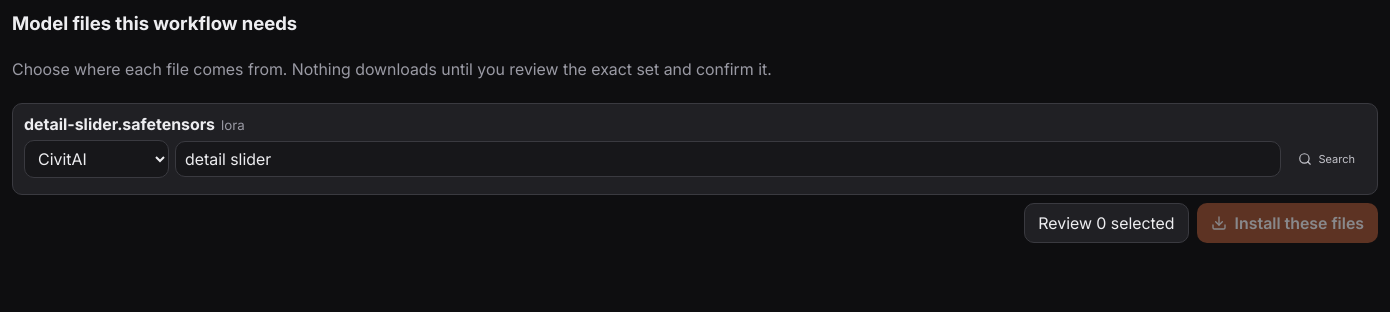
Test case: workflow asset installer › says why a bundle holding several files produced nothing
The width and height of the screenshot is (1390, 312).
Click the button "Search" at (1327, 159), box [1288,144,1366,174]
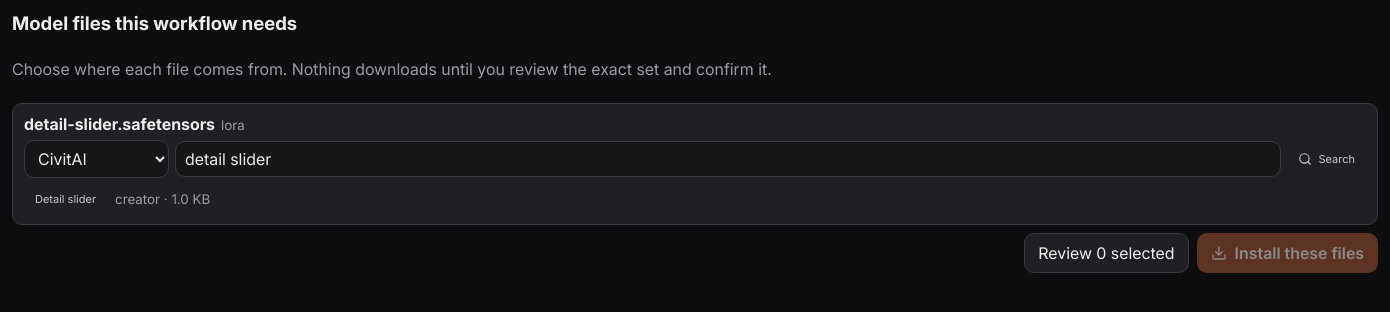
Click the button "Detail slider" at (66, 199), box [24,184,107,214]
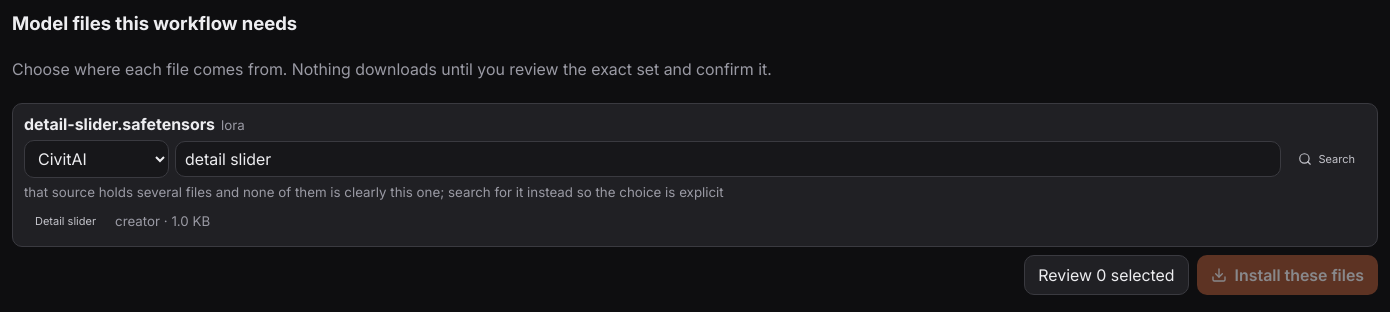
Result: the message shows "several files" at [24,184,724,200]
